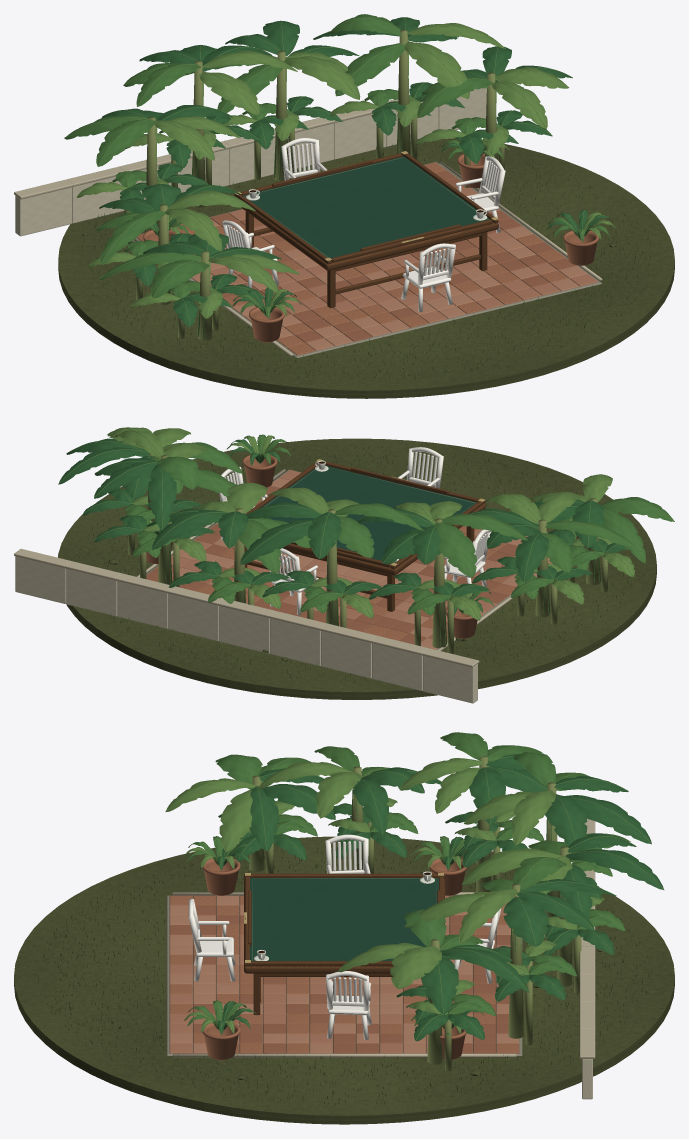
Rendered from patio.glb.
3 renders of one model, top to bottom at view 1: azimuth 30°, elevation 25°; view 2: azimuth 150°, elevation 25°; view 3: azimuth 270°, elevation 25°, orthographic. The views are drawn at different scales.
Visible parts, largest first — view 1: Earthen yard, Green playing surface, Garden wall, Table timber frame, Garden wall.006, Banana leaf.047, Courtyard foundation, Banana leaf.032, Grass patch 2, Grass patch 0, Garden wall.004, Garden wall.001 (+46 smaller); view 2: Earthen yard, Green playing surface, Garden wall, Garden wall.008, Garden wall.007, Garden wall.005, Garden wall.002, Garden wall.003, Garden wall.001, Garden wall.006, Garden wall.004, Banana leaf.001 (+63 smaller); view 3: Earthen yard, Green playing surface, Grass patch 2, Courtyard foundation, Grass patch 0, Grass patch 1, Banana leaf.018, Banana leaf.045, Banana leaf.033, Banana leaf.065, Banana leaf.015, Garden edging.001 (+39 smaller).
Part boxes in pixels (x1,y1,x2,y2): Earthen yard: (58,138,674,398); Green playing surface: (243,156,489,258); Garden wall: (15,187,71,236); Table timber frame: (241,156,498,270); Garden wall.006: (334,113,386,159); Banana leaf.047: (404,41,469,98); Courtyard foundation: (135,162,601,357); Banana leaf.032: (283,56,360,99); Grass patch 2: (82,145,652,379); Grass patch 0: (80,141,652,381); Garden wall.004: (229,137,275,185); Garden wall.001: (72,176,124,223); Earthen yard: (58,438,656,699); Green playing surface: (261,465,476,563); Garden wall: (423,655,477,703); Garden wall.008: (15,556,66,603); Garden wall.007: (66,568,117,616); Garden wall.005: (168,593,218,641); Garden wall.002: (321,631,371,678); Garden wall.003: (270,618,320,666); Garden wall.001: (372,643,422,690); Garden wall.006: (117,581,167,628); Garden wall.004: (219,606,269,653); Banana leaf.001: (433,522,476,577); Earthen yard: (14,836,674,1124); Green playing surface: (250,878,438,960); Grass patch 2: (40,847,651,1104); Courtyard foundation: (166,895,522,1055); Grass patch 0: (38,845,648,1104); Grass patch 1: (41,849,651,1105); Banana leaf.018: (566,795,651,844); Banana leaf.045: (503,897,548,946); Banana leaf.033: (565,849,663,889); Banana leaf.065: (390,946,441,988); Banana leaf.015: (545,794,587,852); Garden edging.001: (172,1053,516,1057).
Size of the model in its own units: 20.98 by 5.87 by 20.4.
25 materials, 8 textured.
